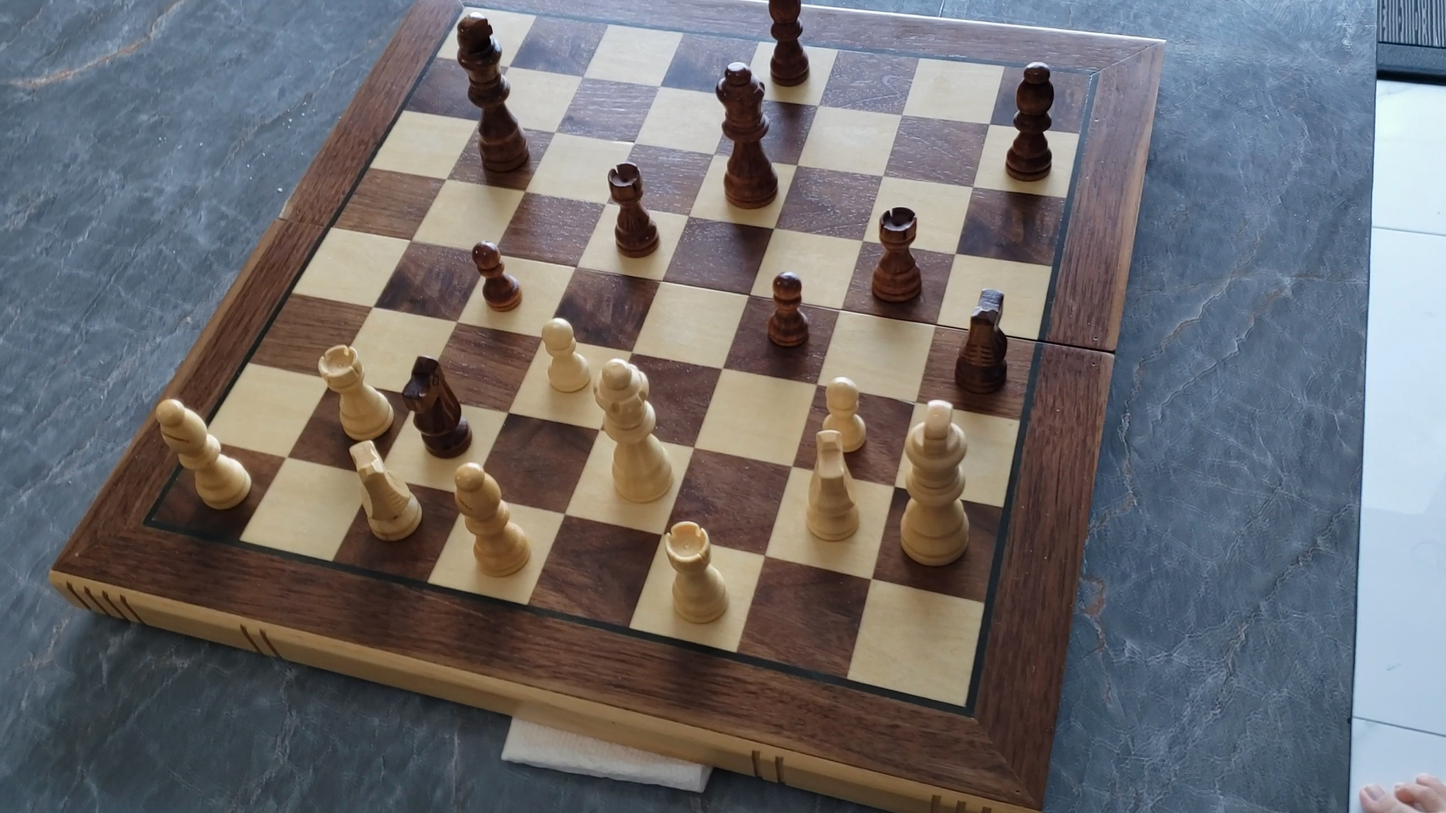black-bishop: (1003, 53, 1065, 187), (756, 0, 818, 85)
black-king: (439, 3, 541, 178)
black-knight: (402, 353, 474, 458), (953, 286, 1011, 395)
black-pawn: (467, 237, 525, 314), (764, 268, 811, 351)
black-queen: (708, 62, 785, 222)
black-rook: (603, 159, 660, 259), (869, 204, 924, 307)
white-bishop: (150, 395, 256, 514), (447, 461, 534, 581)
white-king: (893, 396, 975, 572)
white-knight: (343, 439, 427, 547), (802, 425, 863, 547)
white-pawn: (812, 377, 890, 447), (535, 314, 595, 397)
white-queen: (590, 357, 679, 508)
white-rook: (657, 517, 734, 630), (315, 341, 395, 445)
